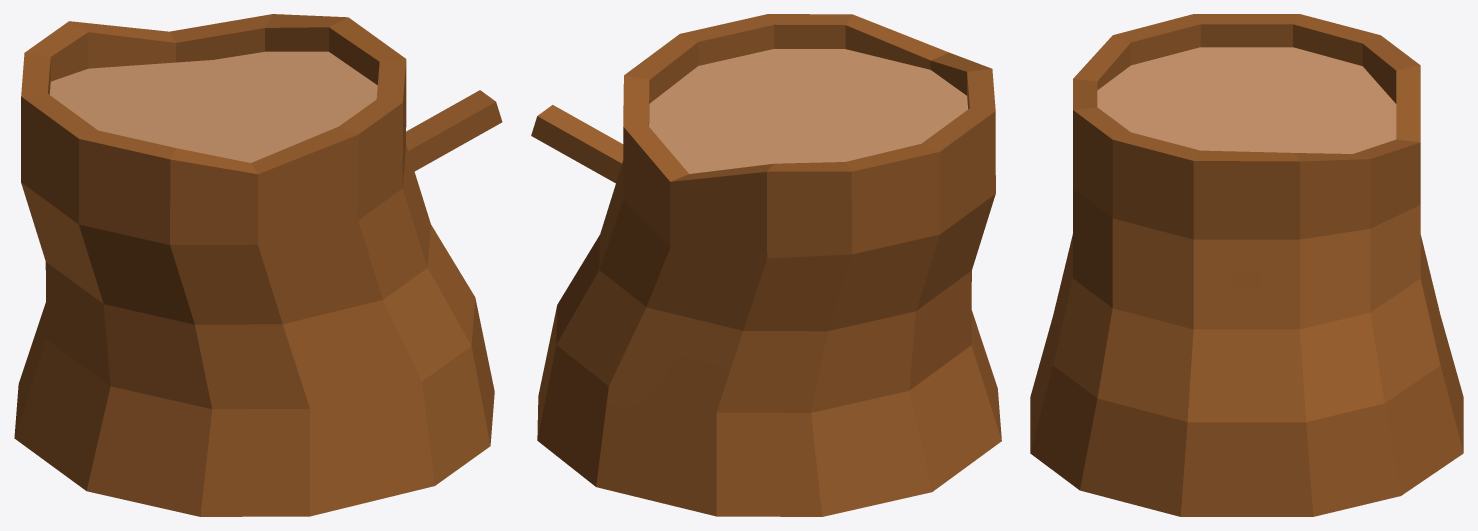
Rendered from Botonera.fbx.
3 views of the same model, side by side, from view 1: azimuth 30°, elevation 25°; view 2: azimuth 150°, elevation 25°; view 3: azimuth 270°, elevation 25° (orthographic). The views are drawn at different scales.
Visible parts, largest first — view 1: Cube; view 2: Cube; view 3: Cube.
Part boxes in pixels (x1,y1,x2,y2): Cube: [14, 14, 502, 516]; Cube: [531, 14, 1001, 516]; Cube: [1030, 14, 1463, 516].
Size of the model in its own units: 272 by 203 by 249.
